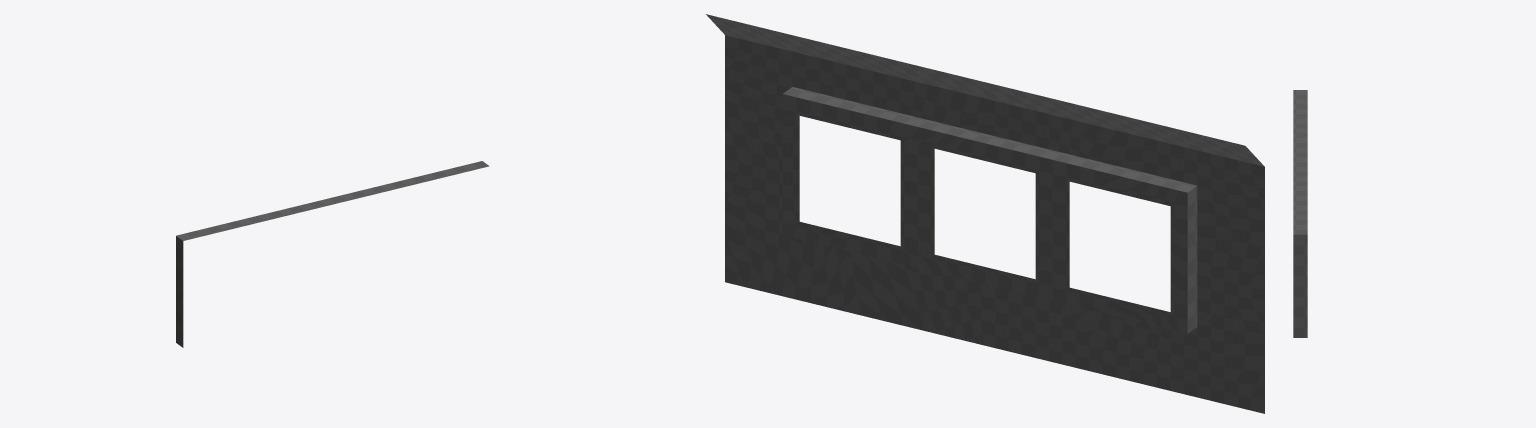
The picture shows the model from 3 angles, left to right: view 1: azimuth 30°, elevation 25°; view 2: azimuth 150°, elevation 25°; view 3: azimuth 270°, elevation 25°; orthographic projection. The views are drawn at different scales.
Parts seen in each view (by area): view 1: 3; view 2: 3; view 3: 3.
Part boxes in pixels (x1,y1,x2,y2): 3: (176,161,489,347); 3: (706,14,1264,413); 3: (1293,90,1307,337).
Bounding box in the file's own units: 4 × 2 × 2.
2 materials, 2 textured.
